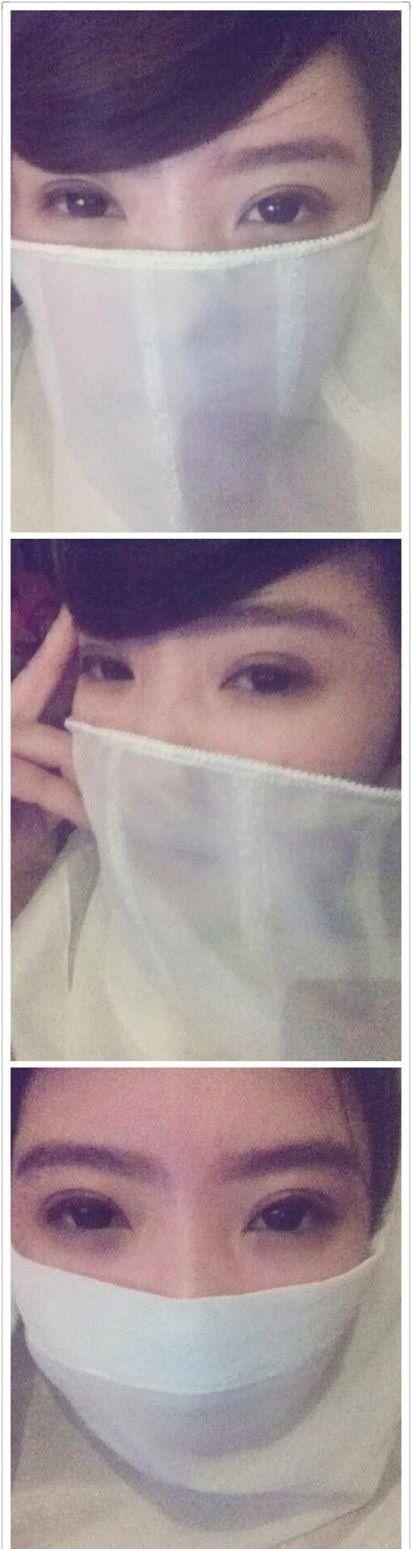NONE: (32, 123, 384, 475), (82, 581, 382, 904)
WRONG: (25, 1108, 359, 1458)
